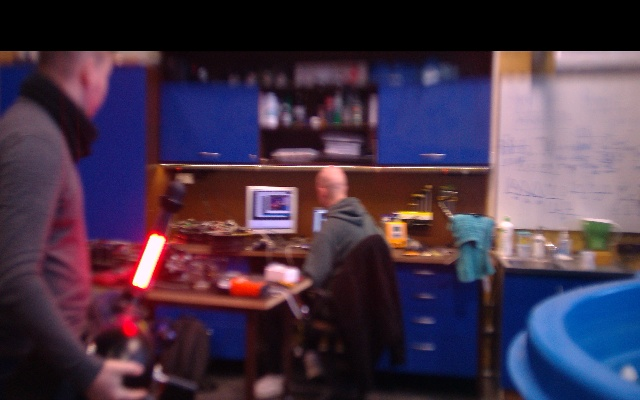red: (131, 233, 167, 294)
